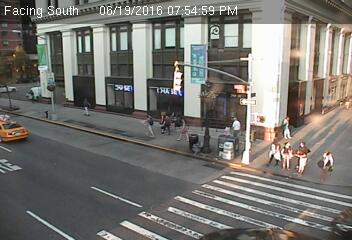neg: (36, 68, 58, 98), (203, 98, 220, 121), (286, 86, 300, 105), (110, 92, 124, 110), (53, 63, 65, 79)
pos: (274, 136, 300, 170), (262, 137, 286, 168), (173, 113, 195, 144), (291, 149, 311, 176), (317, 149, 337, 176), (155, 109, 174, 134), (280, 116, 298, 140), (140, 113, 158, 137), (230, 116, 246, 137), (78, 97, 93, 117), (298, 137, 309, 151)
